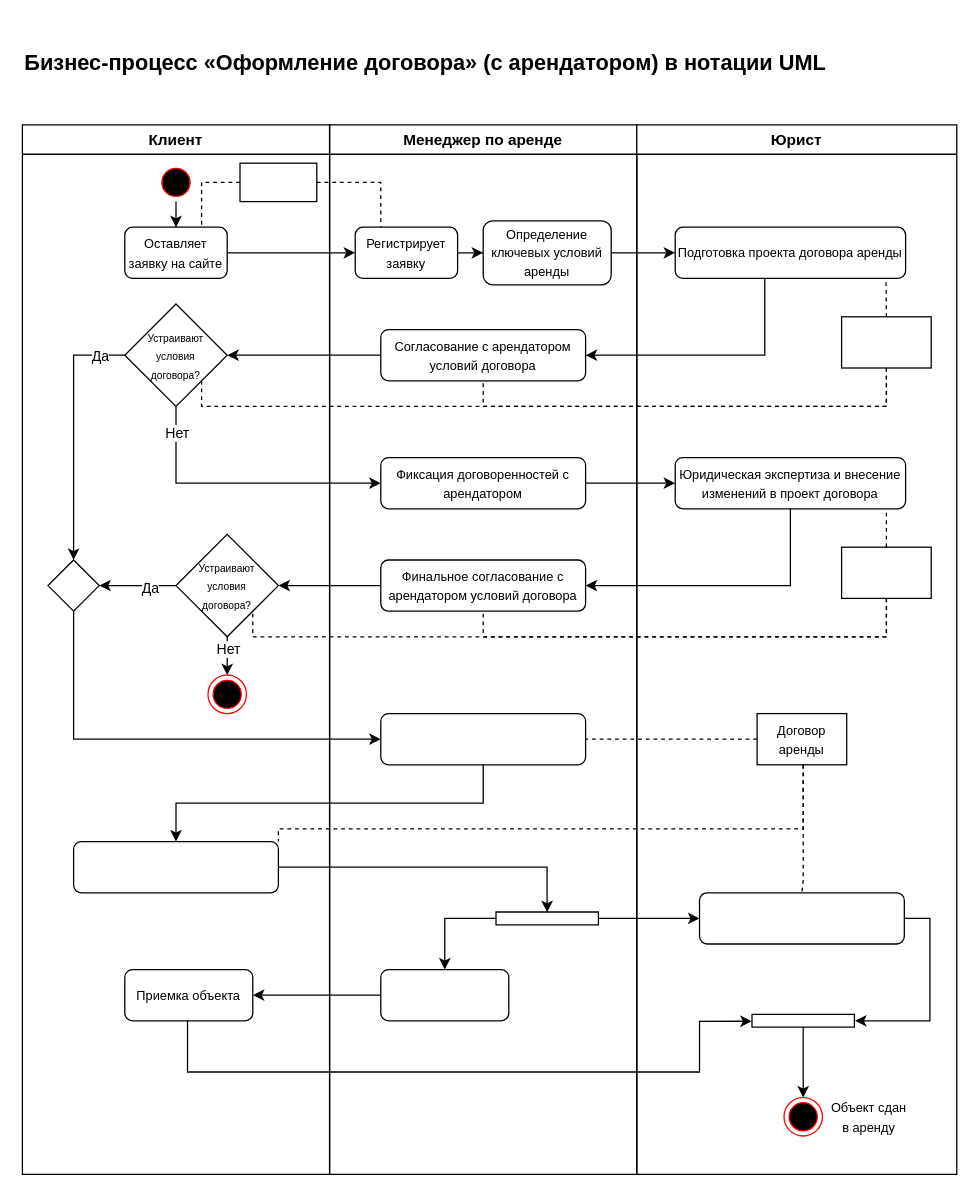
This 979x1197 diagram has some shape labels left out. Each missing label, with the centre of its shape:
"Заявка на аренду" goes at point (278, 182).
"Передача объекта" goes at point (444, 994).
"Подписание договора арендатором" goes at point (175, 866).
"Подписание договора арендодателем" goes at point (483, 738).
"Проект договора №1" goes at point (885, 342).
"Проект договора №2" goes at point (885, 572).
"Регистрация договора аренды" goes at point (801, 918).
